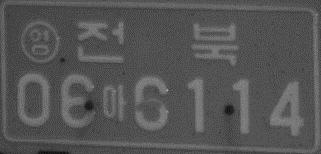0: (15, 72, 50, 127)
1: (222, 78, 261, 134), (180, 78, 215, 133)
4: (267, 80, 305, 136)
6: (59, 73, 96, 130), (133, 75, 169, 132)
아: (101, 84, 126, 121)
영: (19, 20, 61, 65)
전북_D: (75, 21, 240, 64)
